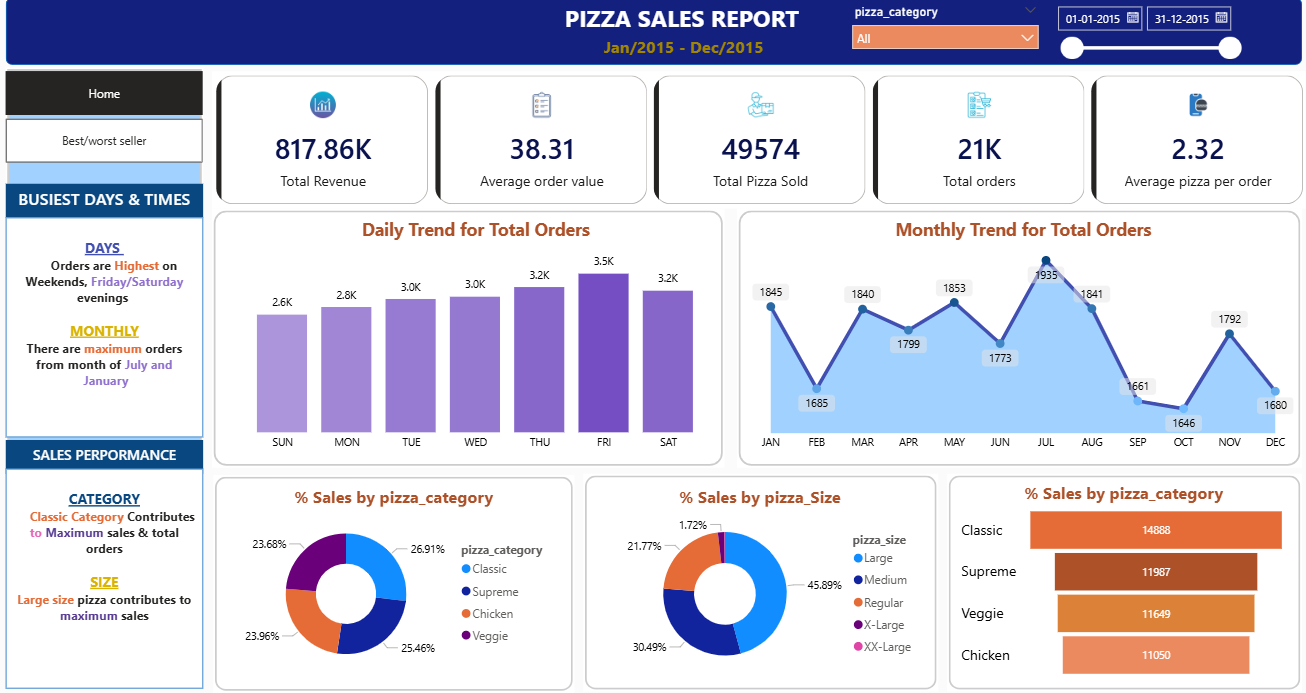

What the dashboard file says about the page in this screenshot:
{"tool":"powerbi","page":{"name":"Home","canvas":[1500,820],"ordinal":0},"visuals":[{"type":"image","box":[10,167.1,41.4,44.3],"z":0},{"type":"cardVisual","fields":{"Data":["pizza_sales.Total Revenue","pizza_sales.Average order value","pizza_sales.Total Pizza Sold","pizza_sales.Total orders","pizza_sales.Average pizza per order"]},"box":[245.7,98.6,1254.3,157.1],"z":1000},{"type":"shape","box":[10,14.3,1481.4,77.1],"z":2000},{"type":"textbox","box":[638.6,14.3,288.6,52.9],"z":3000},{"type":"textbox","box":[688.6,52.9,194.3,41.4],"z":4000},{"type":"shape","box":[245.7,255.7,585.7,295.7],"z":5000},{"type":"columnChart","title":"Daily Trend for Total Orders","fields":{"Category":["pizza_sales.Order Day"],"Y":["pizza_sales.Total orders"]},"box":[262.9,265.7,568.6,275.7],"z":6000},{"type":"shape","box":[845.7,255.7,645.7,295.7],"z":7000},{"type":"areaChart","title":"Monthly Trend for Total Orders","fields":{"Category":["pizza_sales.order month"],"Y":["pizza_sales.Total orders"]},"box":[858.6,265.7,628.6,275.7],"z":8000},{"type":"shape","box":[247.1,560,412.9,248.6],"z":9000},{"type":"shape","box":[1085.7,558.6,405.7,248.6],"z":10000},{"type":"shape","box":[670,558.6,405.7,248.6],"z":11000},{"type":"donutChart","title":"% Sales by pizza_category","fields":{"Category":["pizza_sales.pizza_category"],"Y":["pizza_sales.Total Revenue"]},"box":[262.9,571.4,381.4,224.3],"z":12000},{"type":"donutChart","title":"% Sales by pizza_Size","fields":{"Y":["pizza_sales.Total Revenue"],"Category":["pizza_sales.pizza_size"]},"box":[681.4,571.4,381.4,224.3],"z":13000},{"type":"funnel","title":"% Sales by pizza_category","fields":{"Category":["pizza_sales.pizza_category"],"Y":["pizza_sales.Total Pizza Sold"]},"box":[1097.1,567.1,381.4,230],"z":14000},{"type":"slicer","fields":{"Values":["pizza_sales.pizza_category"]},"box":[967.1,17.1,232.9,71.4],"z":15000},{"type":"shape","box":[10,94.3,225.7,710],"z":16000},{"type":"slicer","fields":{"Values":["pizza_sales.order_date"]},"box":[1200,14.3,230,72],"z":17000},{"type":"textbox","box":[10,227.1,225.7,38.6],"z":18000},{"type":"textbox","box":[10,265.7,225.7,251.4],"z":19000},{"type":"textbox","box":[10,520,225.7,38.6],"z":20000},{"type":"textbox","box":[10,552.9,225.7,251.4],"z":21000},{"type":"pageNavigator","box":[10,98.6,225.7,50],"z":23000},{"type":"pageNavigator","box":[10,152.9,225.7,50],"z":24001}]}

Visuals, with their boxes on the page's 1500x820 design canvas (x1, y1, x2, y2). These are canvas units, not pixel positions in the 1306x693 screenshot, which may show the page scaled, cropped or inside an application window:
image: 10 167 51 211
cardVisual - pizza_sales.Total Revenue x pizza_sales.Average order value: 246 99 1500 256
shape: 10 14 1491 91
textbox: 639 14 927 67
textbox: 689 53 883 94
shape: 246 256 831 551
"Daily Trend for Total Orders" columnChart: 263 266 832 541
shape: 846 256 1491 551
"Monthly Trend for Total Orders" areaChart: 859 266 1487 541
shape: 247 560 660 809
shape: 1086 559 1491 807
shape: 670 559 1076 807
"% Sales by pizza_category" donutChart: 263 571 644 796
"% Sales by pizza_Size" donutChart: 681 571 1063 796
"% Sales by pizza_category" funnel: 1097 567 1478 797
slicer - pizza_sales.pizza_category: 967 17 1200 88
shape: 10 94 236 804
slicer - pizza_sales.order_date: 1200 14 1430 86
textbox: 10 227 236 266
textbox: 10 266 236 517
textbox: 10 520 236 559
textbox: 10 553 236 804
pageNavigator: 10 99 236 149
pageNavigator: 10 153 236 203
